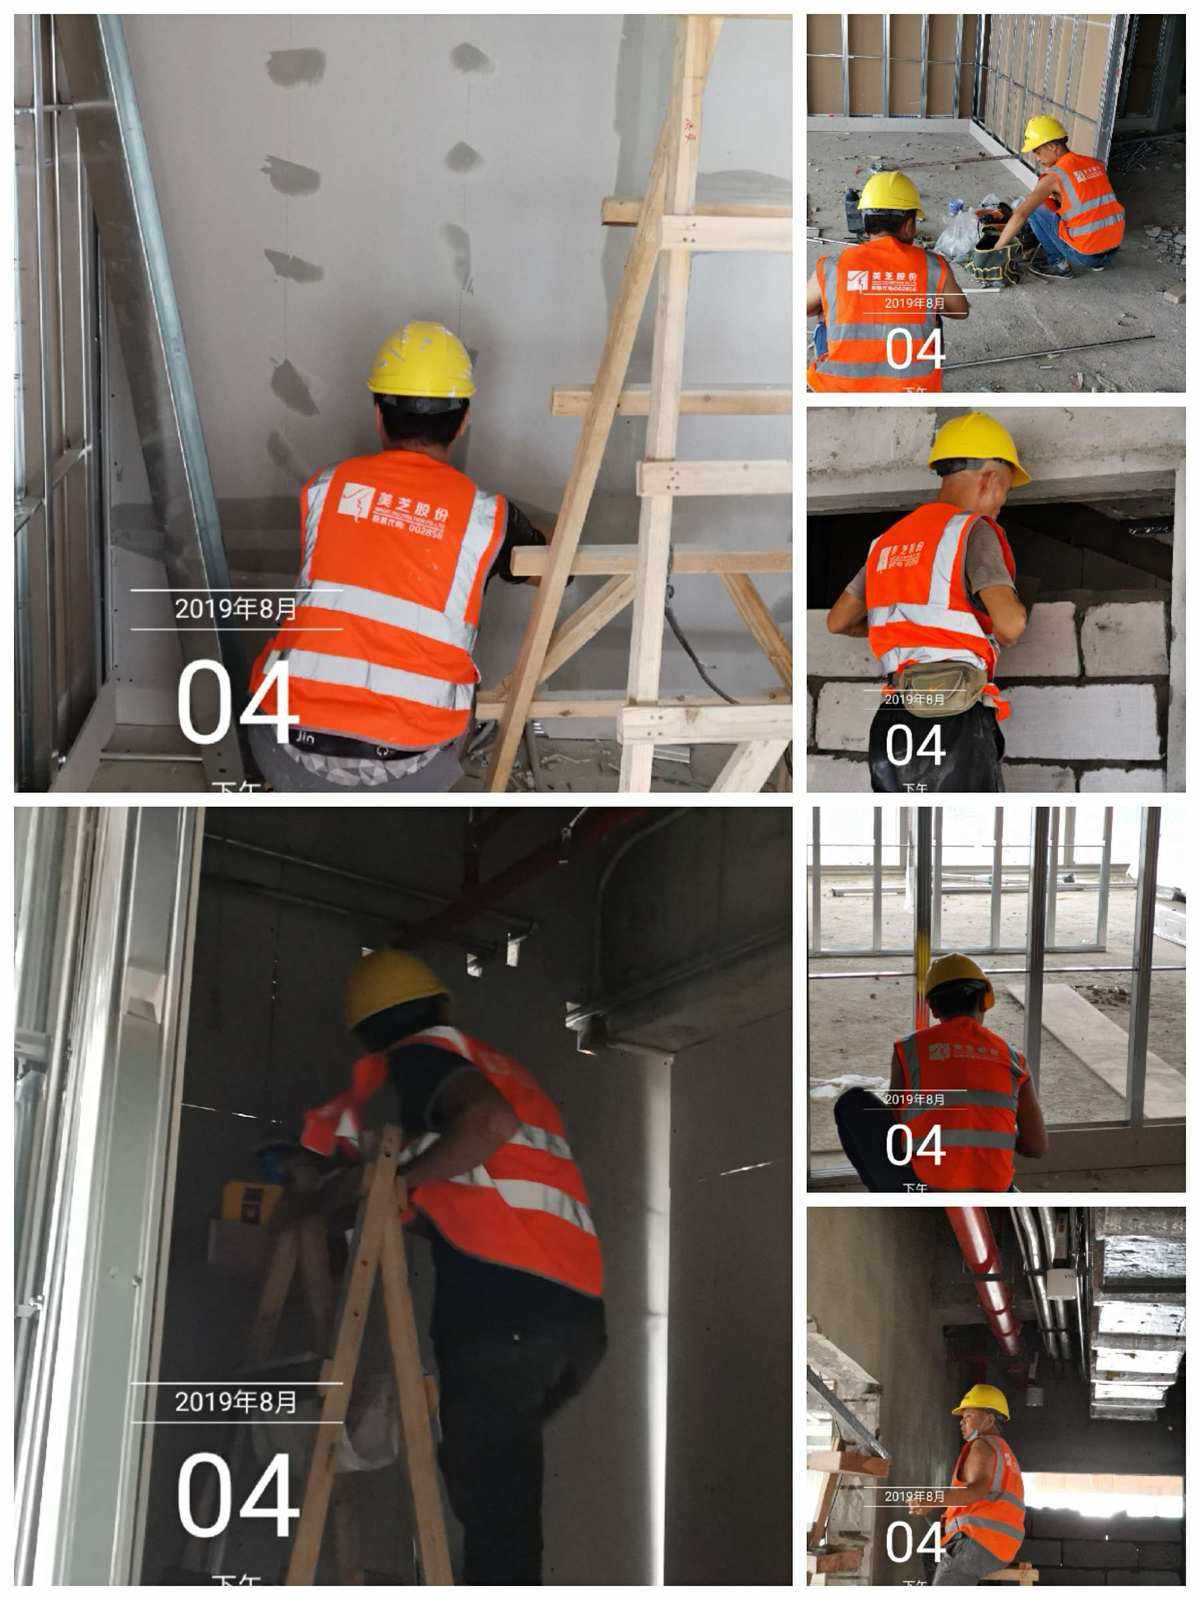person: (296, 946, 610, 1587), (246, 320, 517, 793), (827, 407, 1031, 792), (831, 950, 1050, 1191), (807, 169, 970, 392), (904, 1382, 1028, 1586), (990, 108, 1128, 283)
reflective_vest: (301, 1026, 609, 1298), (248, 447, 509, 751), (863, 498, 1019, 716), (891, 1022, 1028, 1189), (808, 241, 948, 396), (937, 1433, 1027, 1562), (1038, 155, 1126, 255)
safety_helmet: (362, 317, 481, 452), (339, 946, 457, 1047), (925, 408, 1031, 514), (854, 168, 928, 241), (922, 952, 998, 1022), (950, 1381, 1012, 1441), (1017, 110, 1070, 165)
